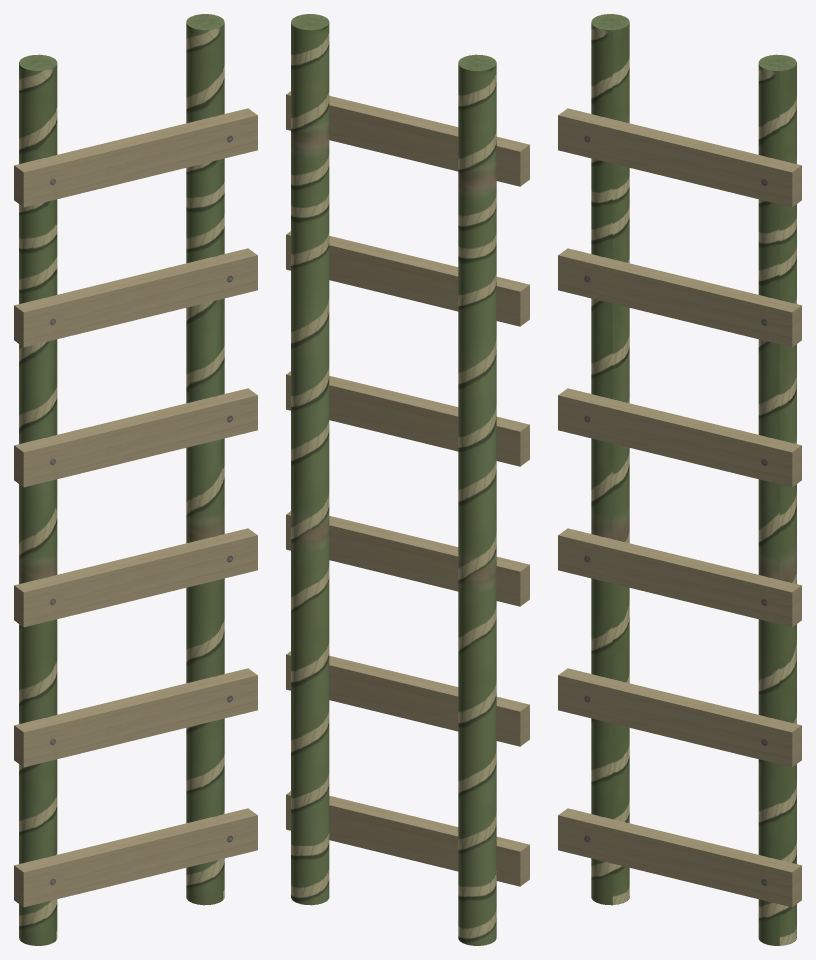
The model's file is Ladder.fbx.
The picture shows the model from 3 angles, left to right: view 1: azimuth 30°, elevation 25°; view 2: azimuth 150°, elevation 25°; view 3: azimuth 330°, elevation 25°; orthographic projection.
Visible parts, largest first — view 1: pCylinder2; view 2: pCylinder2; view 3: pCylinder2.
Boxes of the visible parts, x1,y1,x2,y2 form: pCylinder2: [14, 14, 257, 945]; pCylinder2: [286, 14, 529, 945]; pCylinder2: [558, 14, 801, 945].
Size of the model in its own units: 7 by 25 by 1.48.
1 material, 1 textured.
